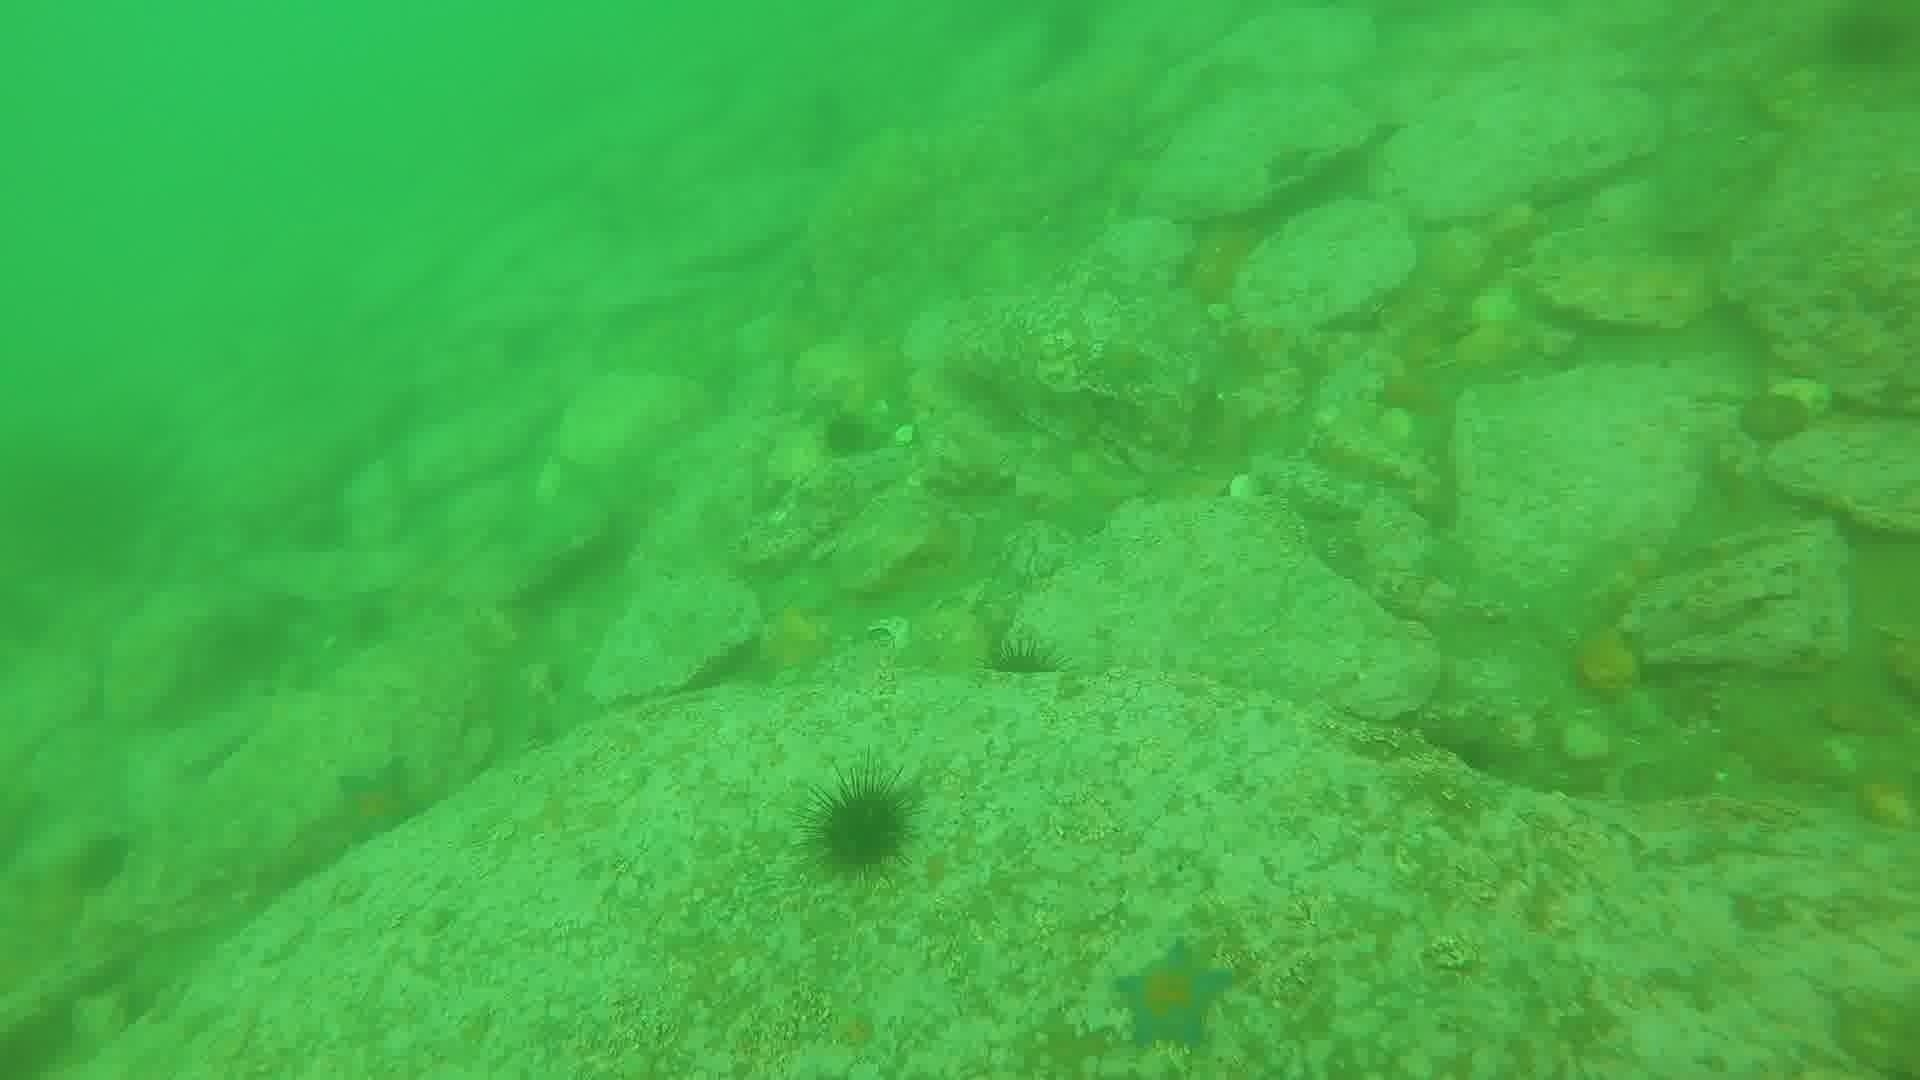echinus: (796, 767, 922, 886), (1818, 3, 1916, 76), (65, 828, 138, 898), (980, 629, 1062, 687), (814, 407, 881, 465)
starfish: (1110, 938, 1240, 1056), (1023, 458, 1149, 543), (322, 754, 429, 852), (752, 593, 839, 682)
